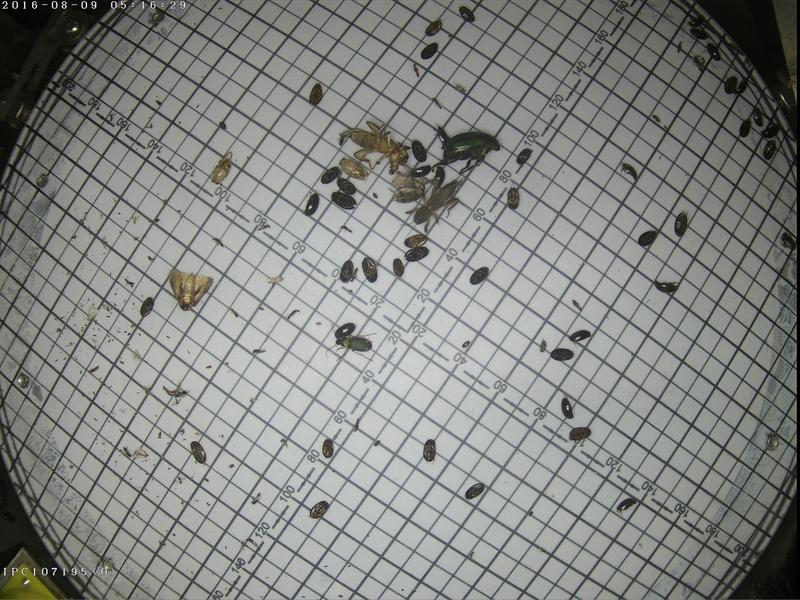Gryllotalpa orientalis: (343, 115, 409, 167), (408, 180, 462, 232)
